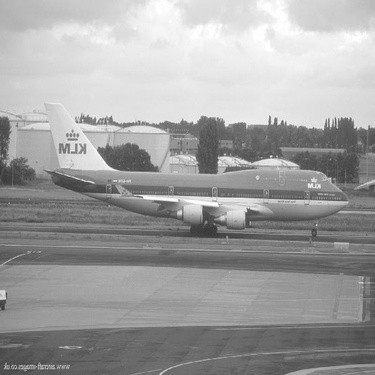airplane: (27, 90, 354, 246), (351, 163, 373, 202)
